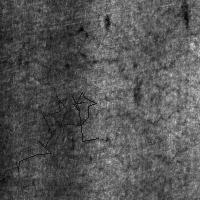crazing: (25, 27, 183, 163), (16, 92, 98, 171)
